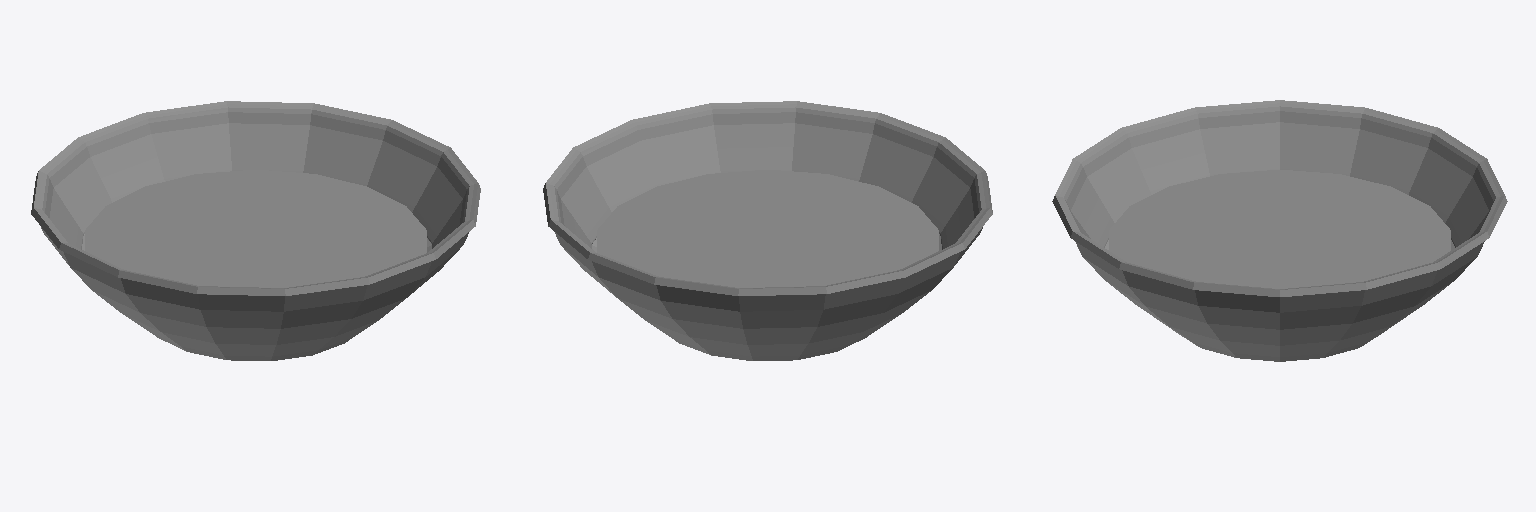
File: Plato_comFideos.obj
3 renders of one model, left to right at view 1: azimuth 30°, elevation 25°; view 2: azimuth 150°, elevation 25°; view 3: azimuth 270°, elevation 25°, orthographic.
Visible parts, largest first — view 1: ramen, Cylinder001; view 2: ramen, Cylinder001; view 3: ramen, Cylinder001.
Part boxes in pixels (bbox=[...]): ramen: bbox=[31, 101, 480, 360]; Cylinder001: bbox=[85, 170, 426, 287]; ramen: bbox=[543, 101, 992, 360]; Cylinder001: bbox=[597, 170, 938, 287]; ramen: bbox=[1052, 100, 1507, 361]; Cylinder001: bbox=[1109, 170, 1450, 288].
Size of the model in its own units: 31.63 by 9.33 by 31.63.